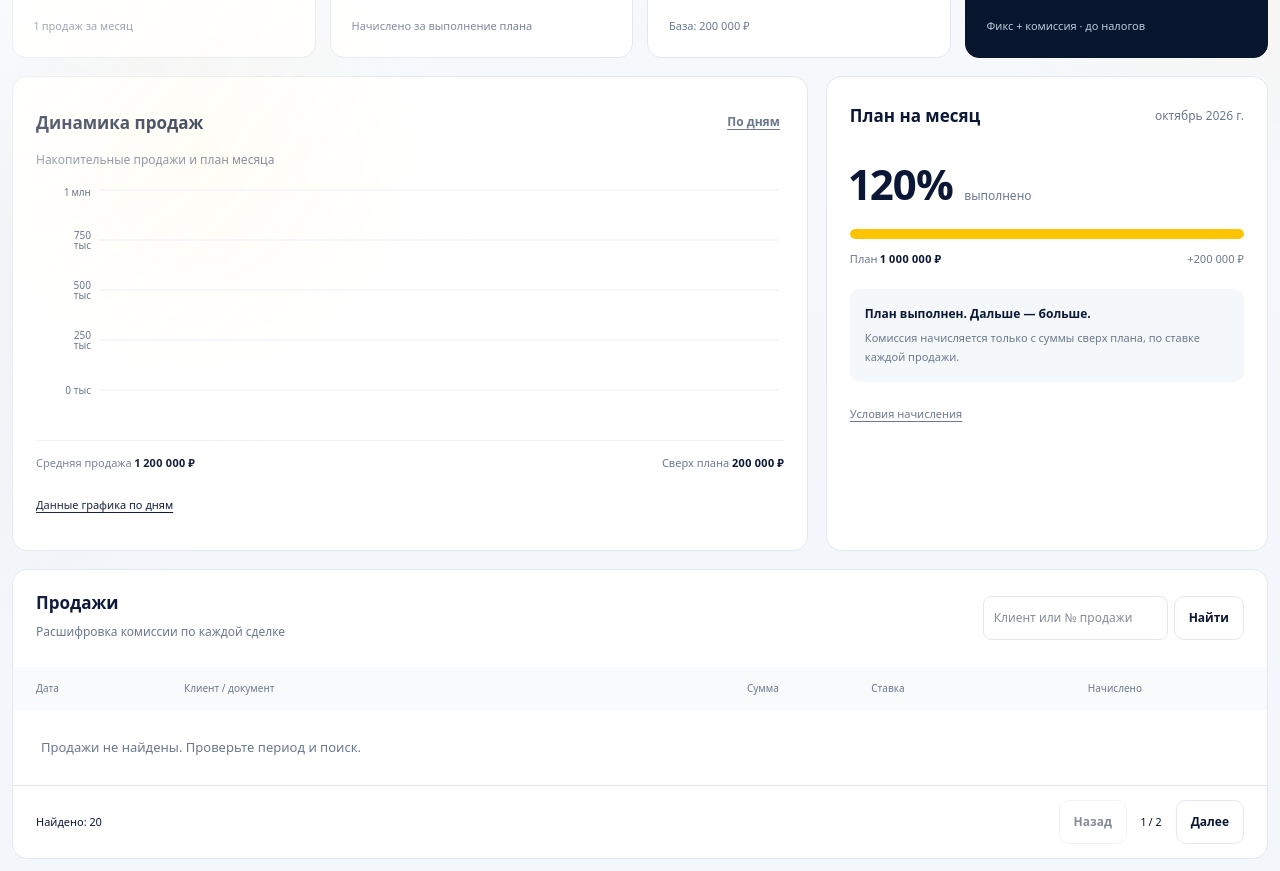
Scenario: manager cabinet async interactions › accepts a server-clamped page after concurrent deletions shrink the result set
The width and height of the screenshot is (1280, 871).
(page scrolled)
Step 1. Click the button "Далее" → (1210,822), box [1176,800,1244,844]
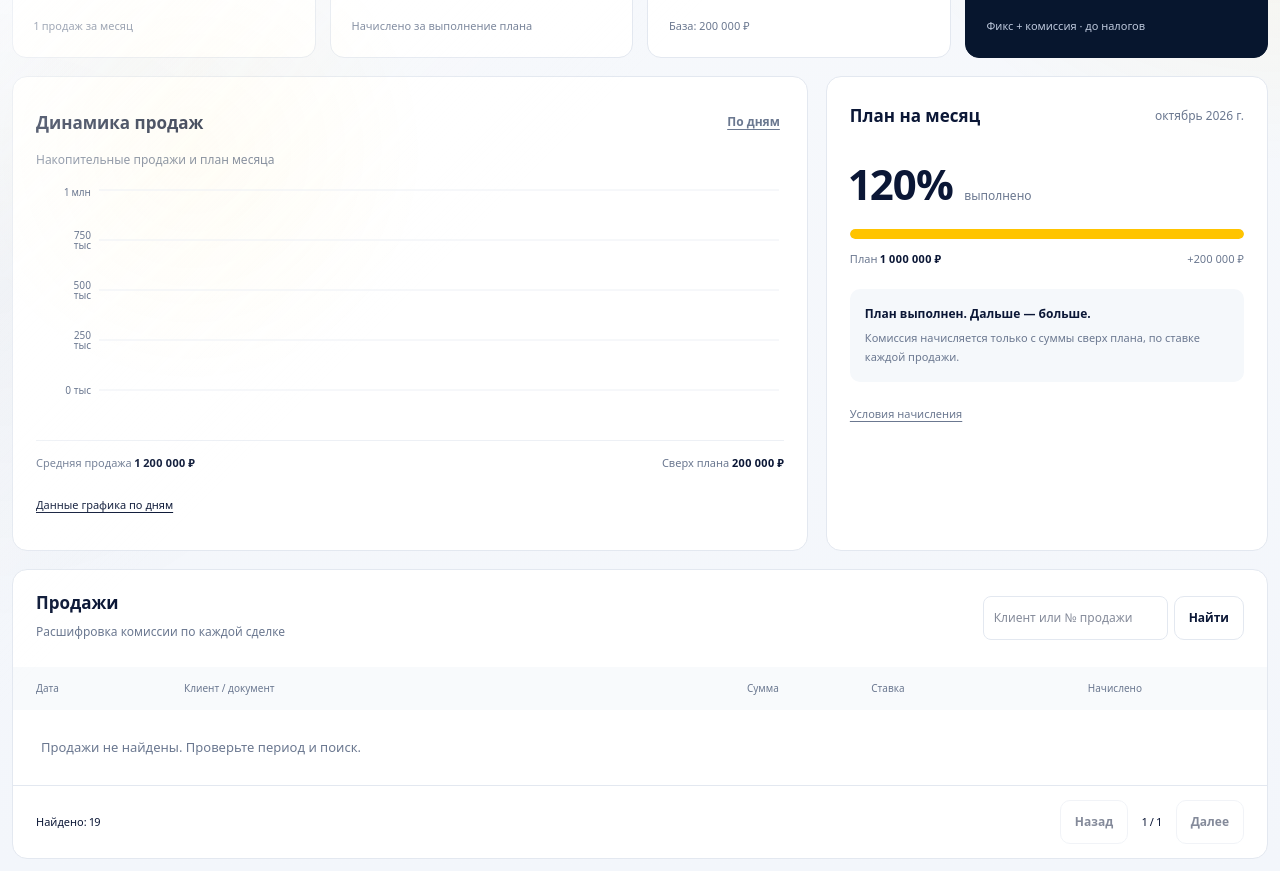
expect the text "Найдено: 19" is shown: met, box [36,814,101,830]
expect the text "1 / 1" is shown: met, box [1142,814,1162,830]
expect the button "Далее" is disabled: met, box [1176,800,1244,844]
